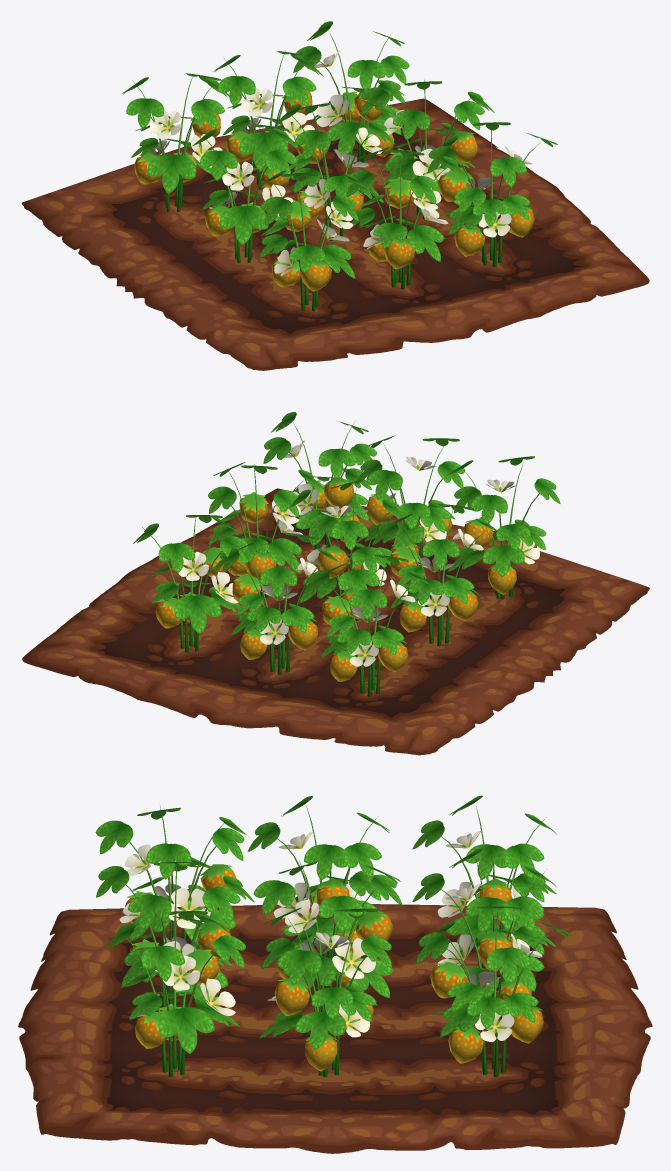
The model's file is Strawberry_Field_Lv2.FBX.
3 renders of one model, top to bottom at view 1: azimuth 30°, elevation 25°; view 2: azimuth 150°, elevation 25°; view 3: azimuth 270°, elevation 25°, orthographic. The views are drawn at different scales.
Visible parts, largest first — view 1: Strawberry_Field_Lv2; view 2: Strawberry_Field_Lv2; view 3: Strawberry_Field_Lv2.
Boxes of the visible parts, box(x1,y1,x2,y2) form: Strawberry_Field_Lv2: box(21, 21, 649, 370); Strawberry_Field_Lv2: box(22, 412, 649, 755); Strawberry_Field_Lv2: box(18, 795, 652, 1153).
Bounding box in the file's own units: 274 × 79.32 × 296.
